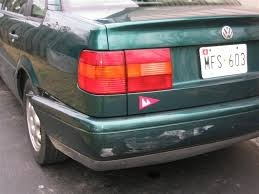Scratch: (115, 123, 215, 160)
